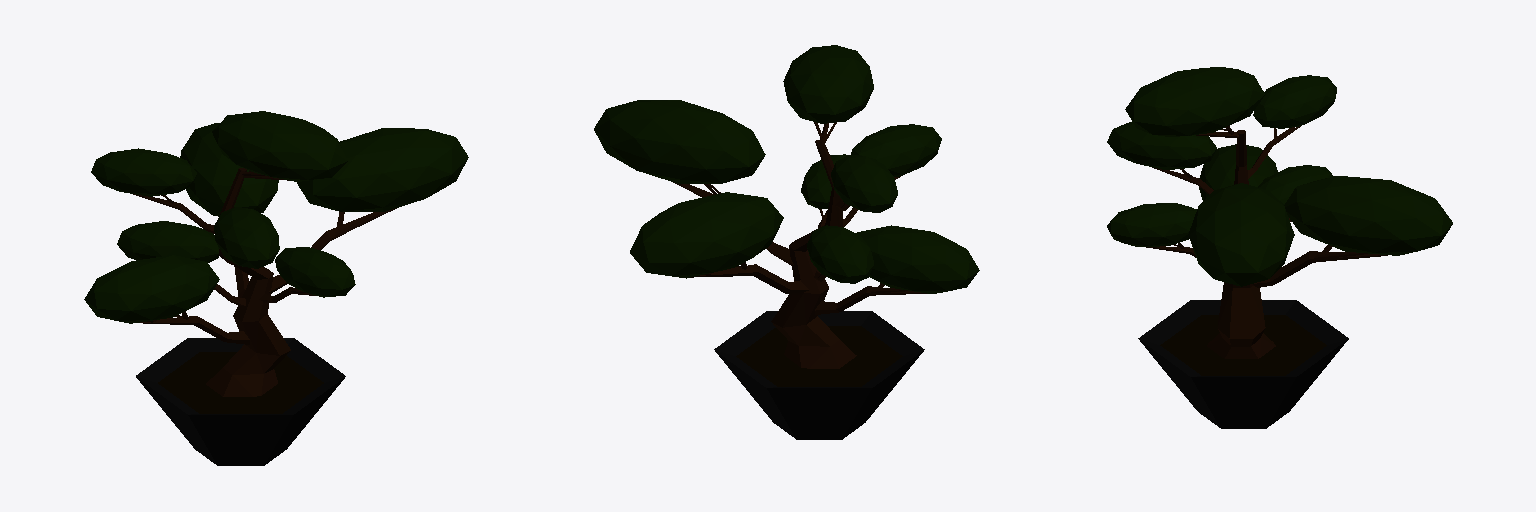
Rendered from Bonsai1.obj.
The picture shows the model from 3 angles: view 1: azimuth 30°, elevation 25°; view 2: azimuth 150°, elevation 25°; view 3: azimuth 270°, elevation 25°; orthographic projection.
Visible parts, largest first — view 1: Bonsai1_Cylinder.052; view 2: Bonsai1_Cylinder.052; view 3: Bonsai1_Cylinder.052.
Boxes of the visible parts, x1=… form: Bonsai1_Cylinder.052: x1=84, y1=111, x2=468, y2=465; Bonsai1_Cylinder.052: x1=594, y1=45, x2=979, y2=439; Bonsai1_Cylinder.052: x1=1107, y1=67, x2=1452, y2=428.
Size of the model in its own units: 2.58 by 2.28 by 2.09.